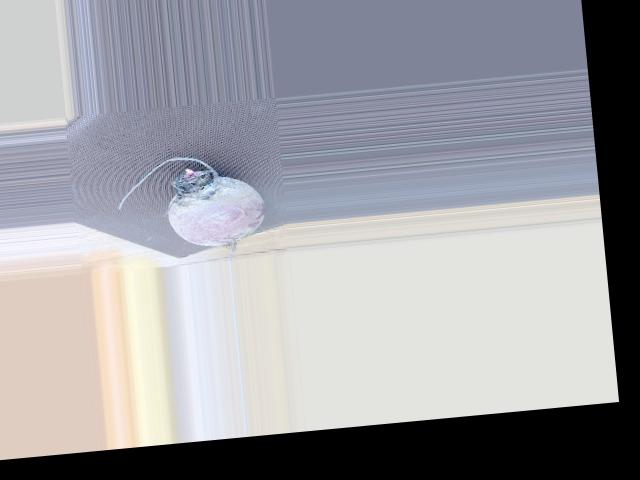beet: (114, 149, 270, 270)
